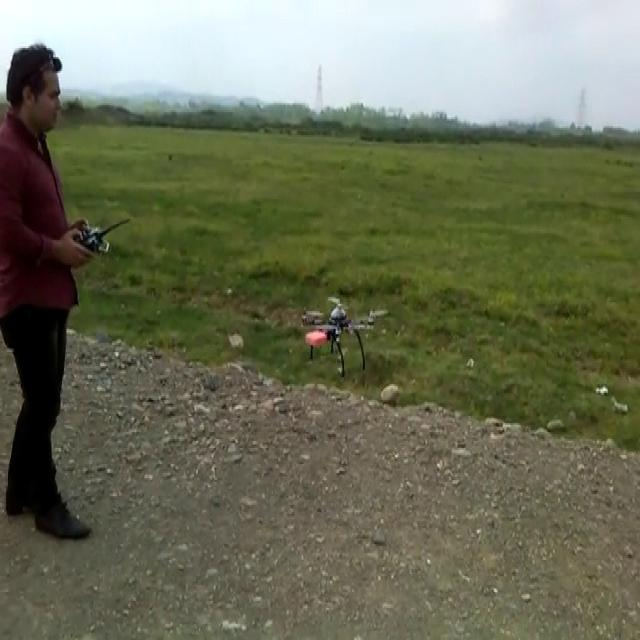drone: (298, 294, 388, 372)
